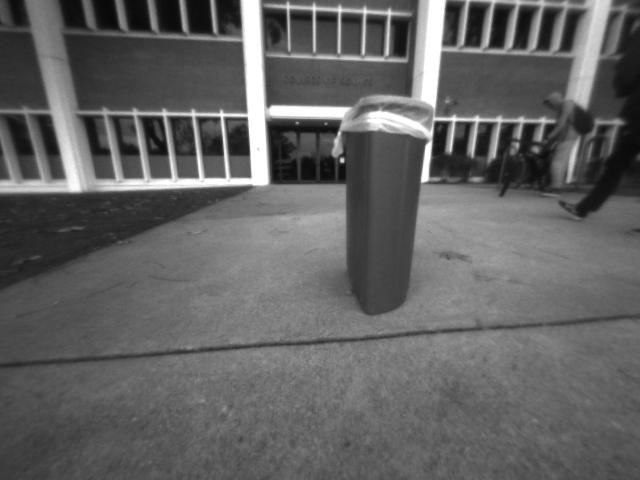trashcan: (332, 83, 434, 317)
